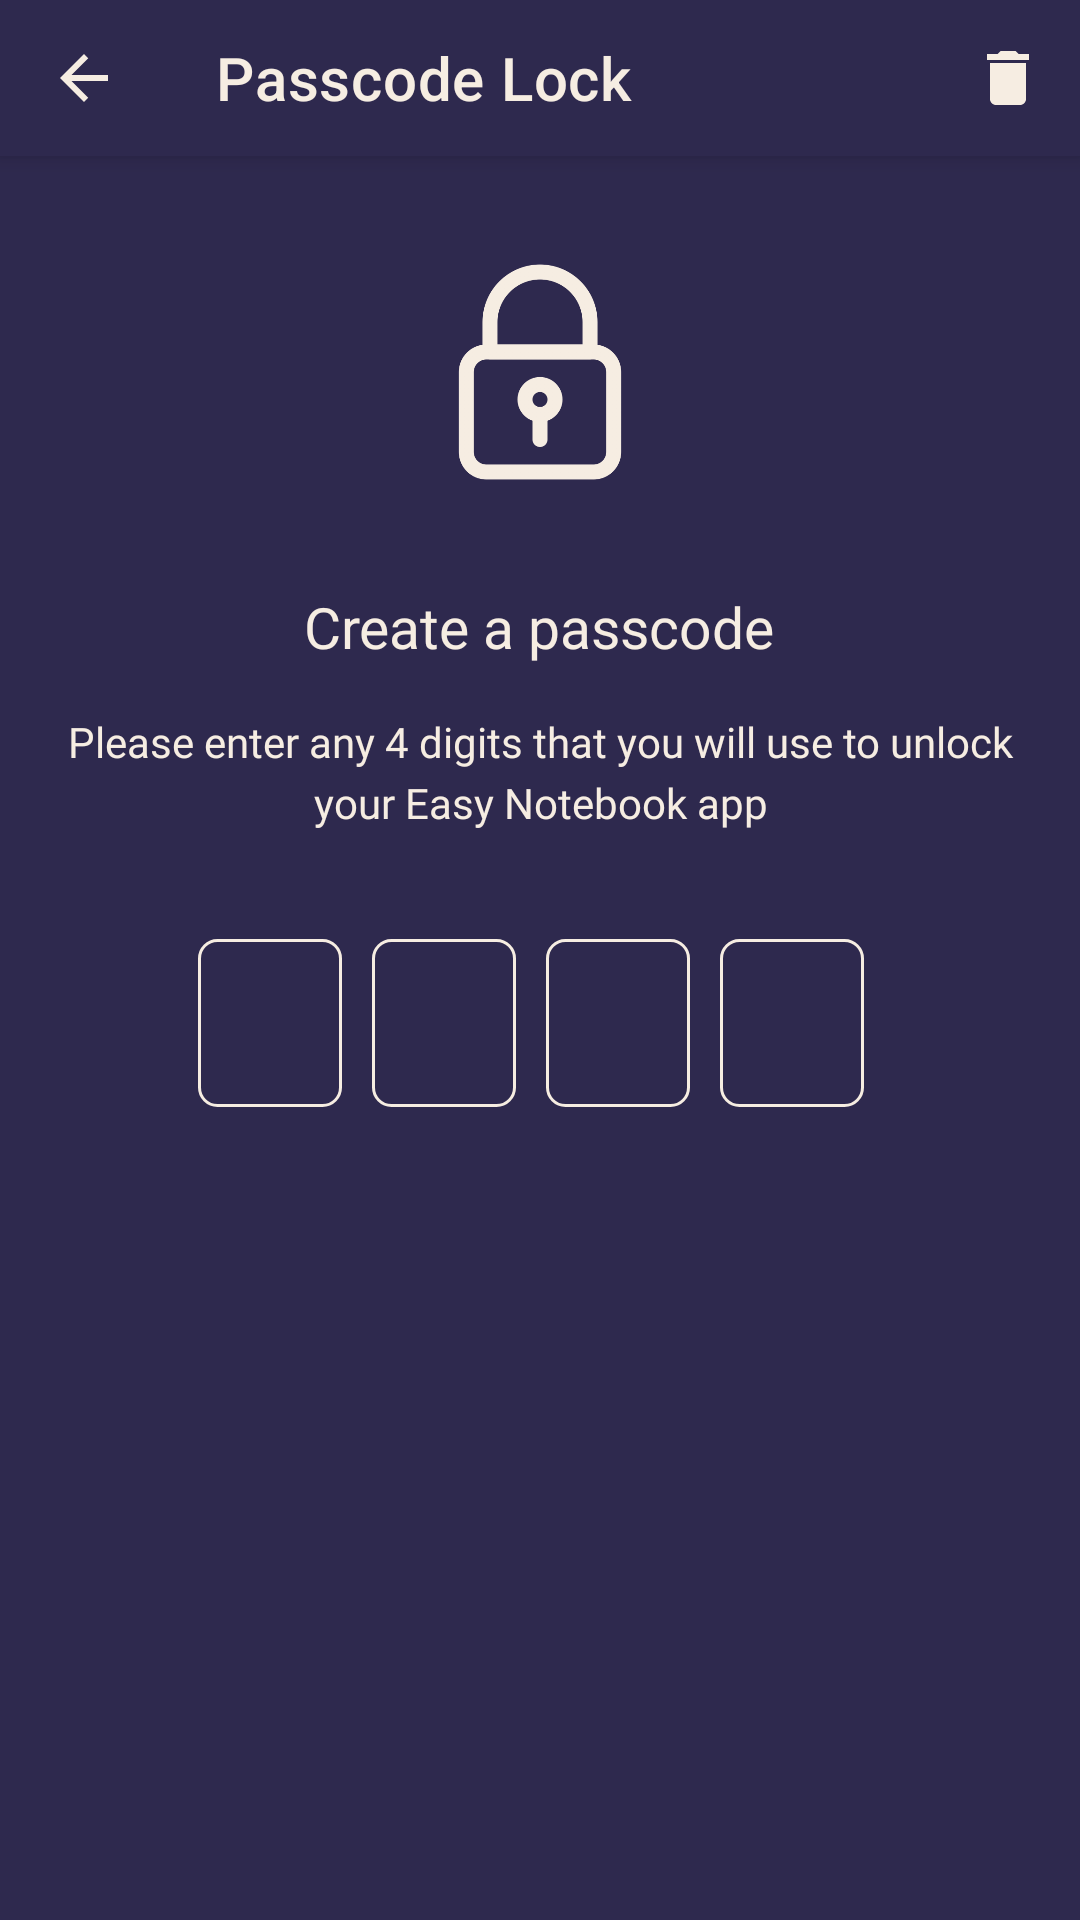

Where icons sit on this 1080w x 1920h app screen, as BBox(x1, y1, x2, y2):
im password: BBox(459, 264, 621, 480)
